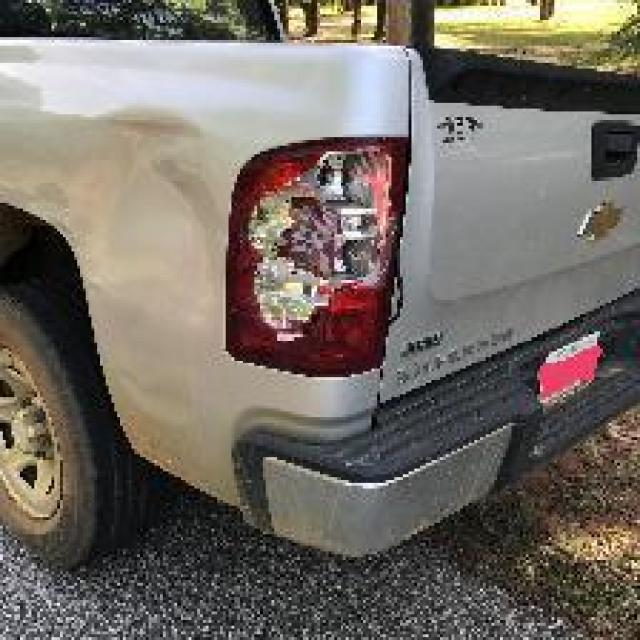damaged: (234, 146, 403, 352)
